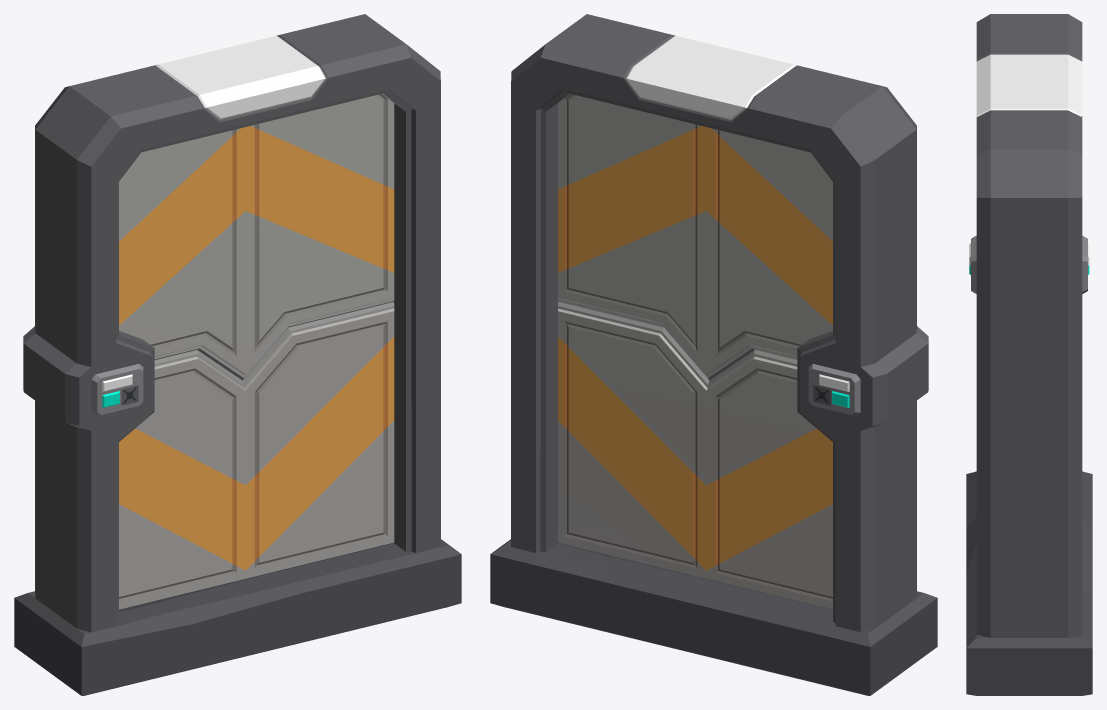
File: worlds_SM_Bld_Door_Single_02.gltf
The picture shows the model from 3 angles, left to right: view 1: azimuth 30°, elevation 25°; view 2: azimuth 150°, elevation 25°; view 3: azimuth 270°, elevation 25°; orthographic projection. The views are drawn at different scales.
Parts seen in each view (by area): view 1: SM_Bld_Door_Single_02; view 2: SM_Bld_Door_Single_02; view 3: SM_Bld_Door_Single_02.
Boxes of the visible parts, x1,y1,x2,y2 form: SM_Bld_Door_Single_02: (14, 14, 461, 695); SM_Bld_Door_Single_02: (490, 14, 937, 695); SM_Bld_Door_Single_02: (966, 14, 1092, 695).
Bounding box in the file's own units: 2.14 × 3.01 × 0.6494.
Materials: 1 (1 with a texture image).
